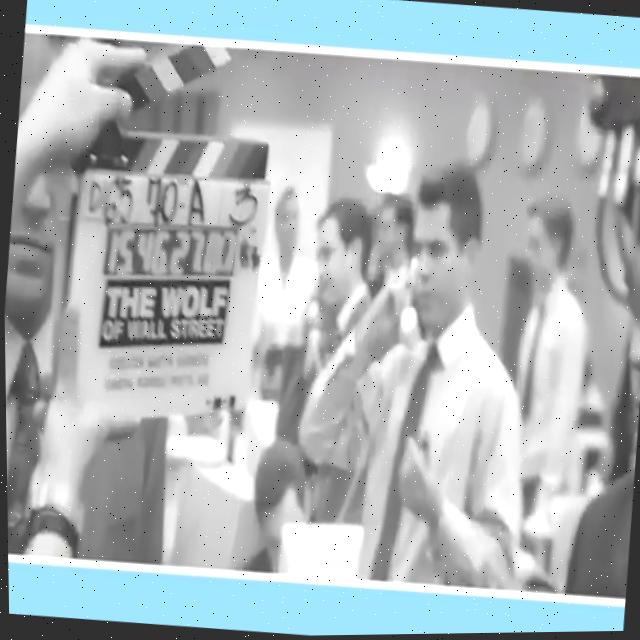Clapperboard: (42, 32, 285, 417)
